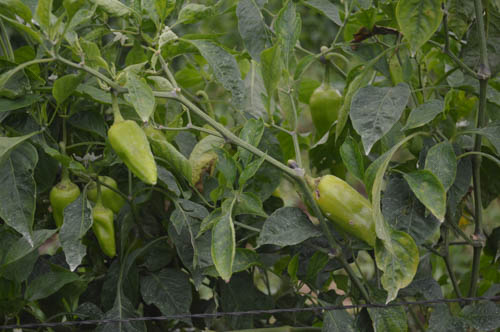ChiliPepper: (315, 174, 377, 248), (111, 122, 159, 186), (306, 89, 344, 138), (87, 210, 116, 259), (47, 185, 81, 226), (86, 175, 124, 209)
